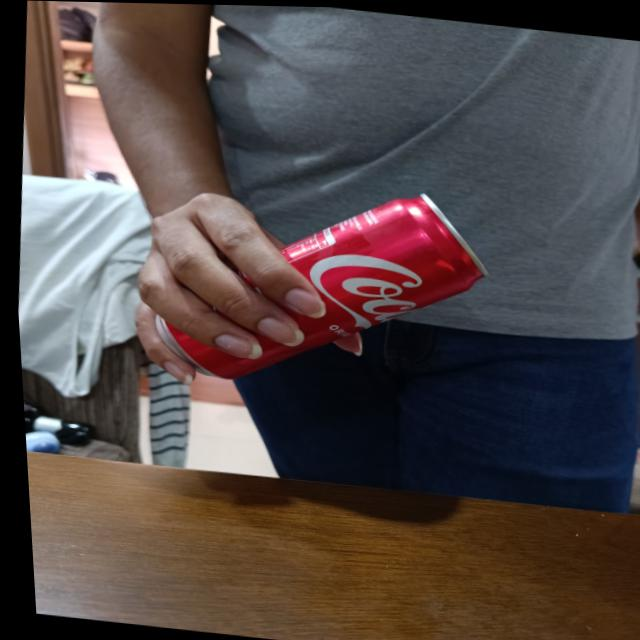coke: (143, 161, 502, 404)
